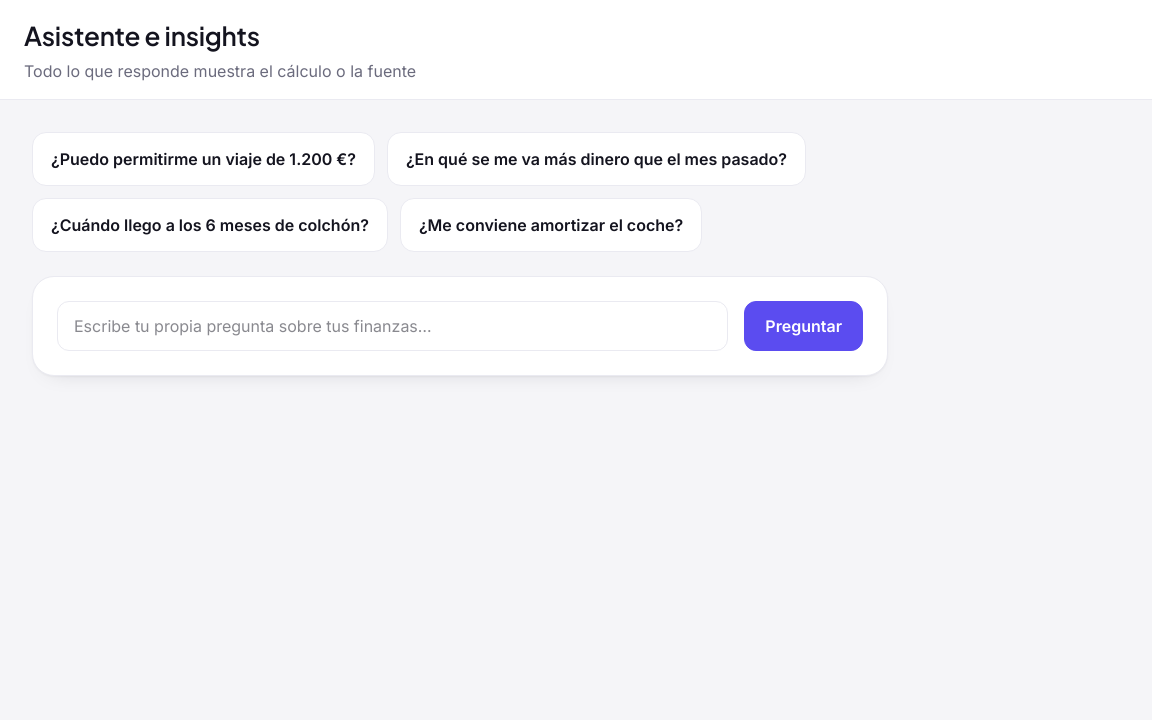
AssistantPage › la respuesta del colchón cuadra con Objetivos: 7 meses desde el 19 ago 2026
This screenshot has width=1152, height=720.
Click the button "¿Cuándo llego a los 6 meses de colchón?".
click(210, 225)  # box 32,198 -> 388,252
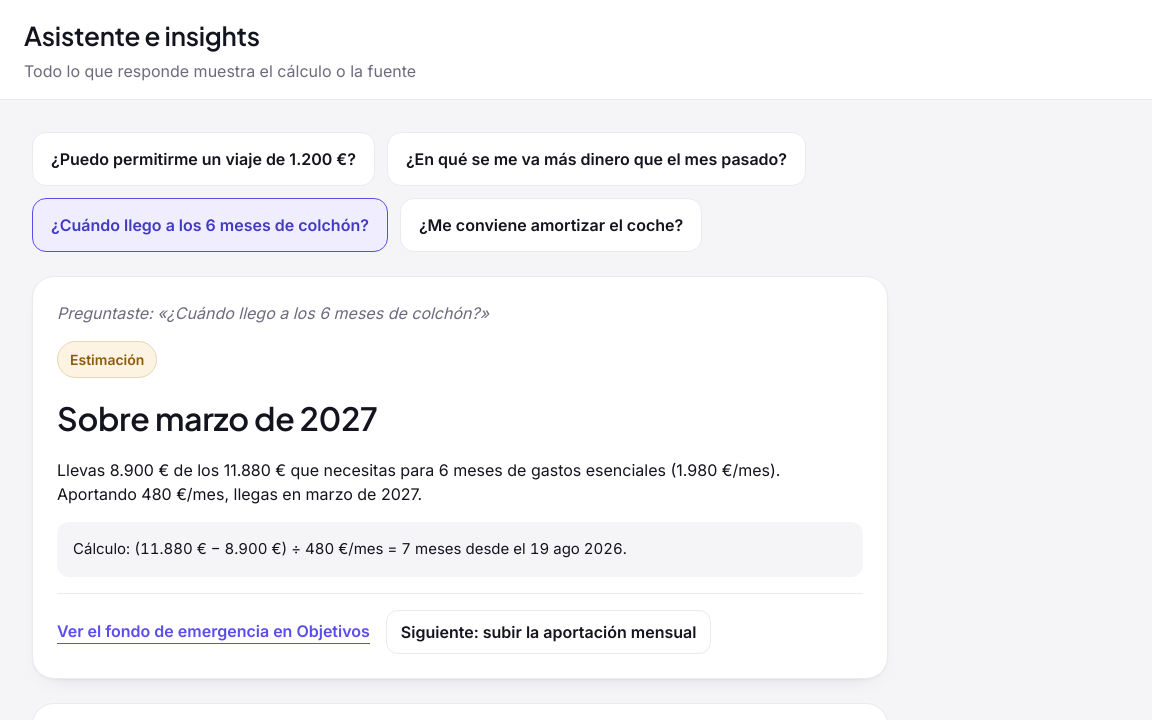
Now the text "7 meses desde el 19 ago 2026" is shown, box 73,539 -> 627,558
